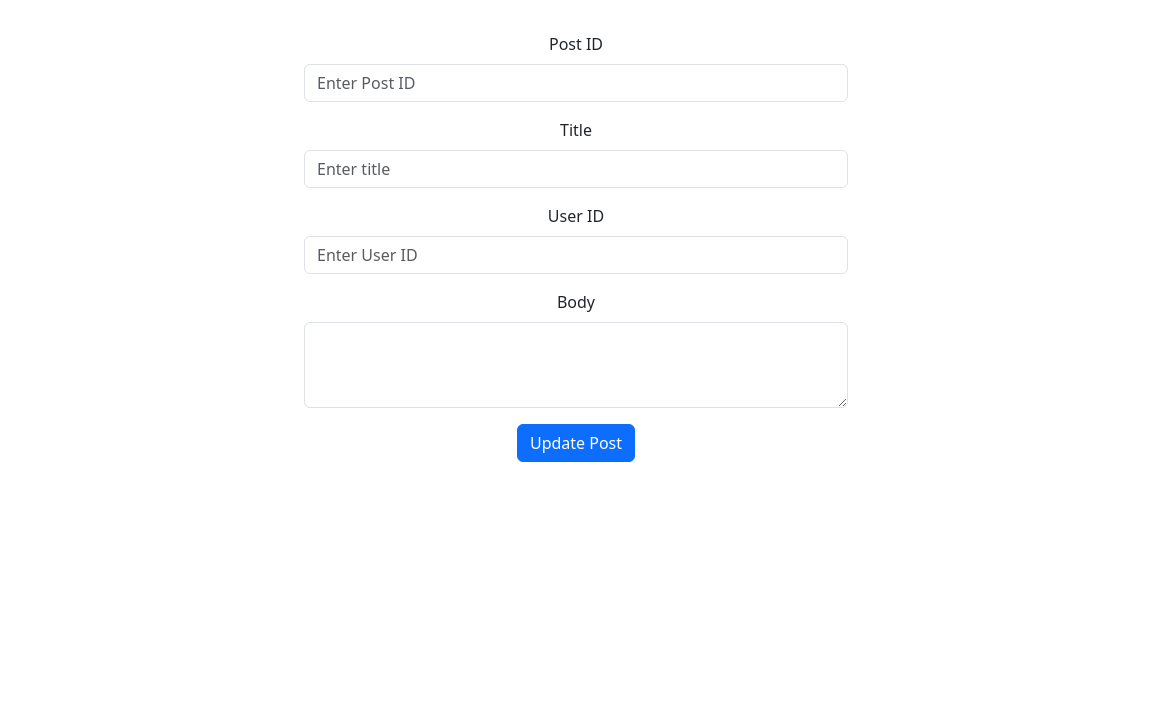
Scenario: UpdatePost Component › submits the form and shows success alert when post is updated successfully
The width and height of the screenshot is (1152, 720).
Type "1" into the field labelled "Post ID".
click(576, 83); type("1")  # box [304,64,848,102]
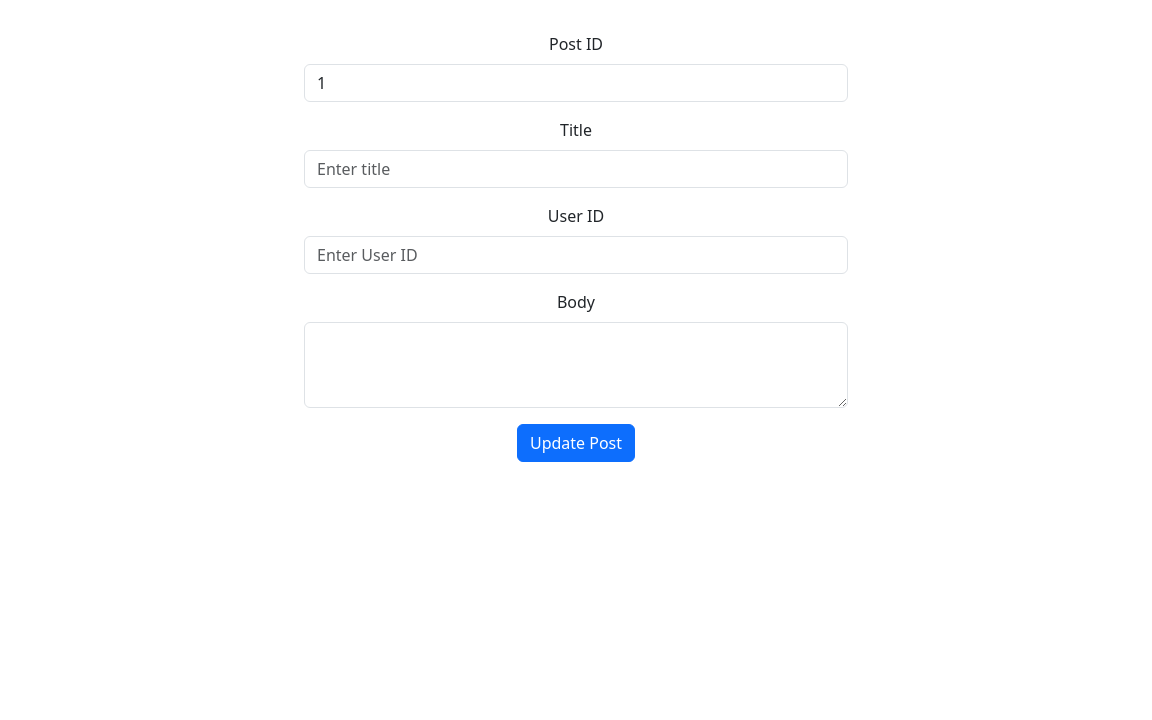
Type "Updated Title" into the field labelled "Title".
click(576, 169); type("Updated Title")  # box [304,150,848,188]
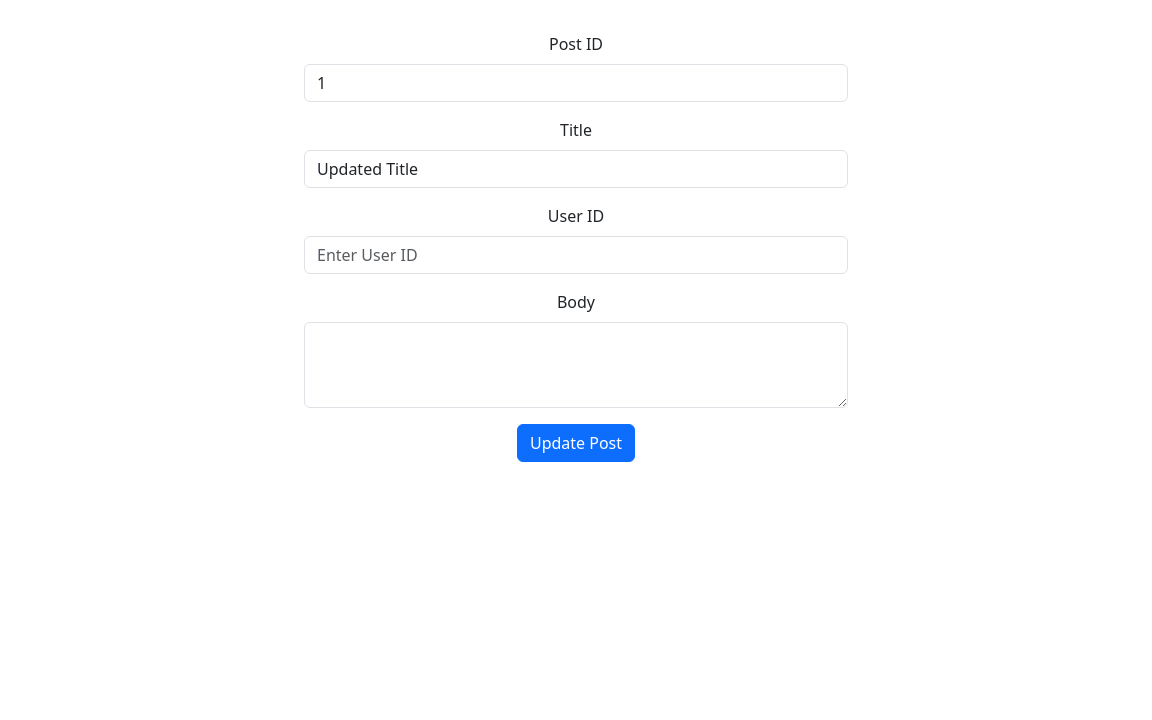
Type "1" into the number field labelled "User ID".
click(576, 255); type("1")  # box [304,236,848,274]
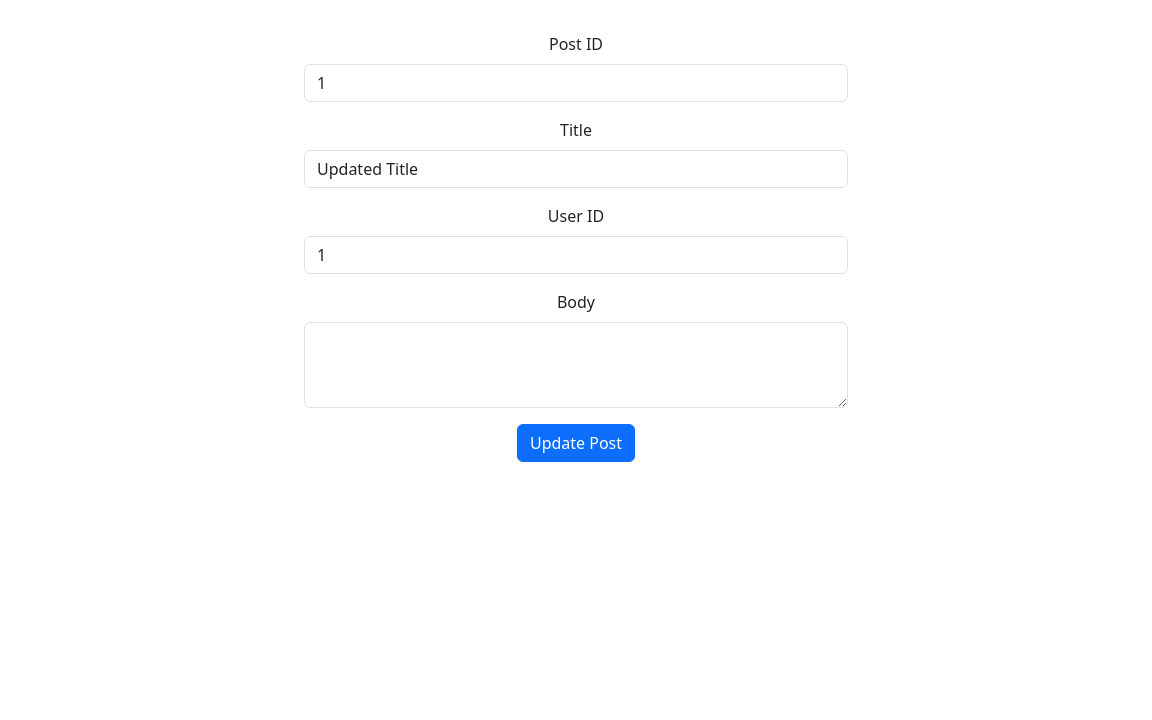
Type "Updated Body" into the text box labelled "Body".
click(576, 365); type("Updated Body")  # box [304,322,848,408]
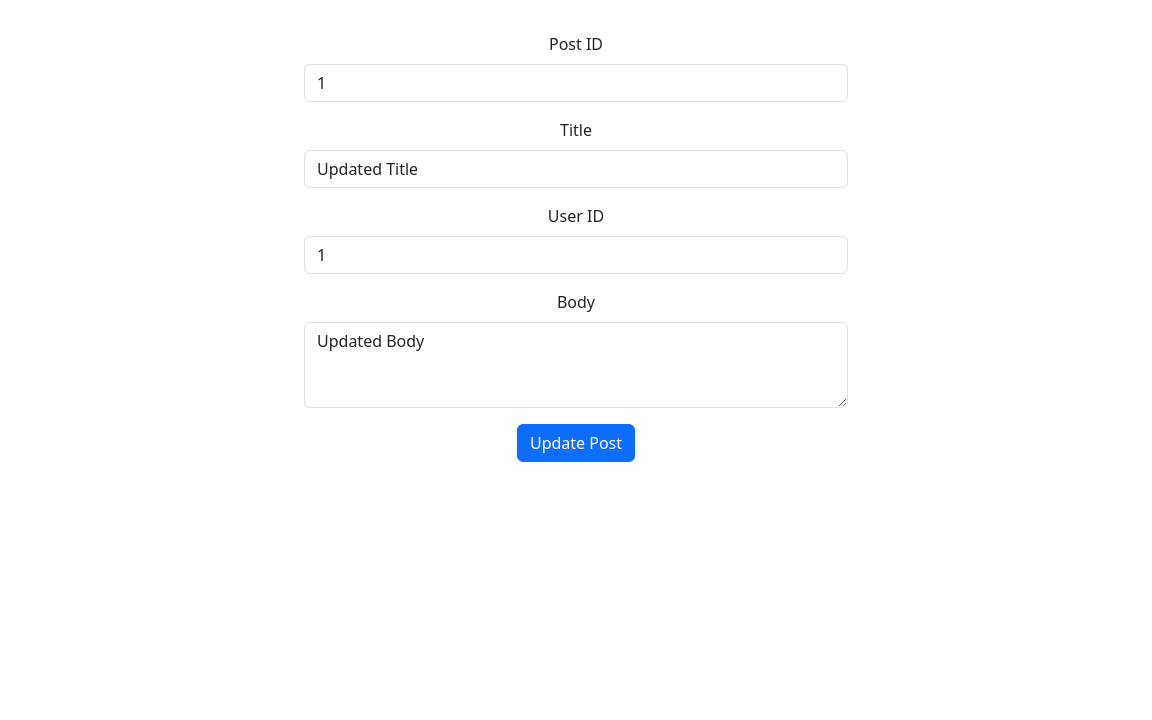
Click the button "Update Post".
click(576, 443)  # box [517,424,635,462]
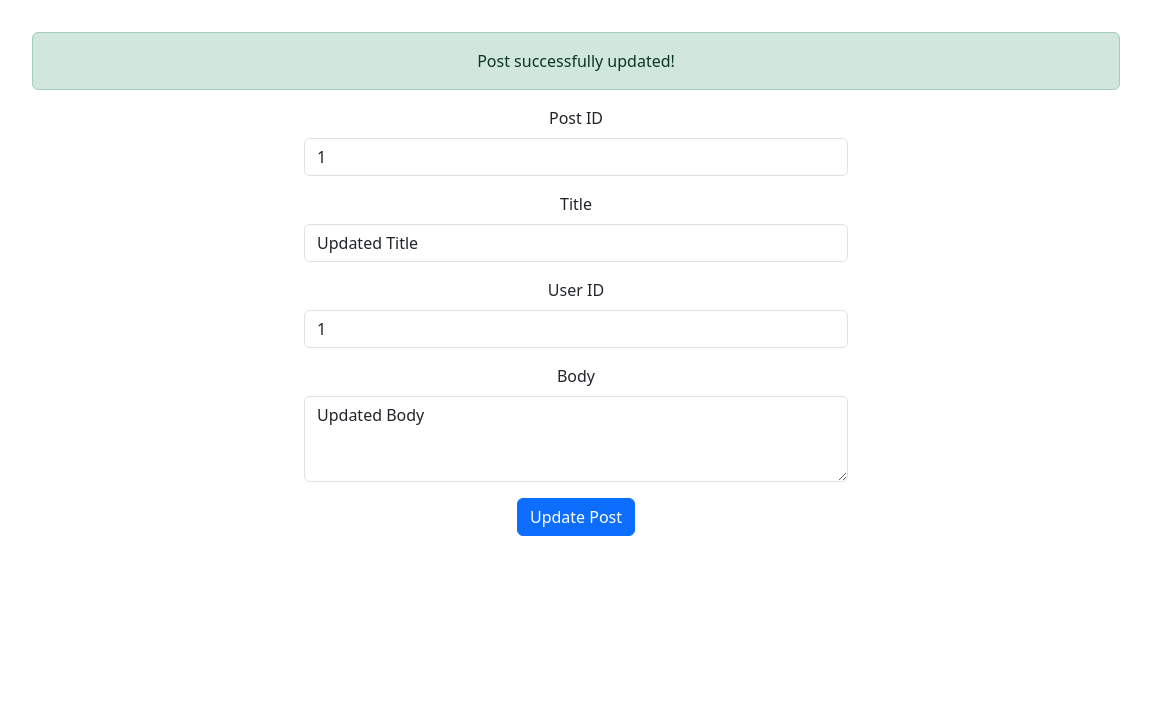
Now the text "Post successfully updated!" is shown, box [32,32,1120,90]
